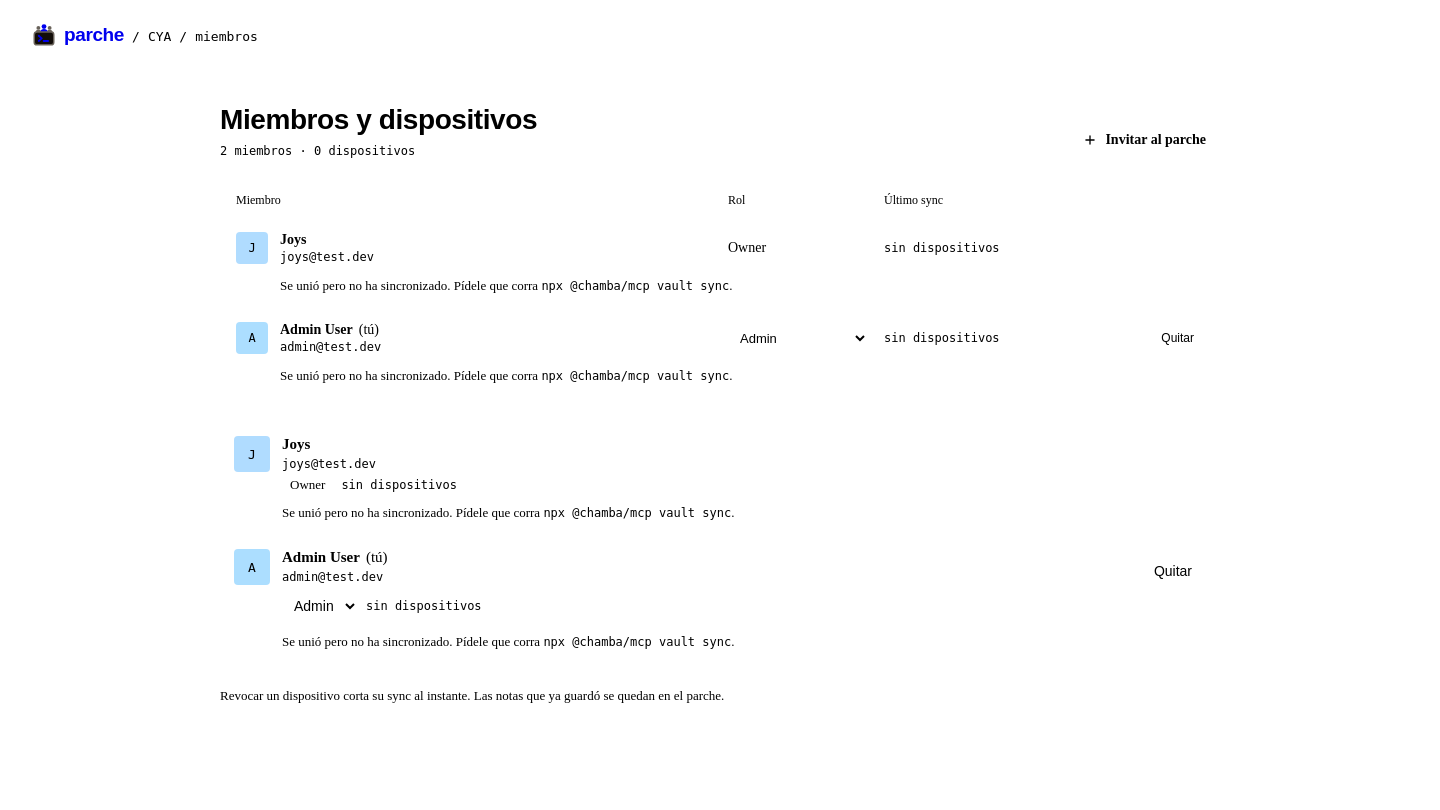
Test: MiembrosPage › admin self-remove: shows Quitar button on own row and dialog with self copy
The width and height of the screenshot is (1440, 810).
Expected: the heading "Miembros y dispositivos" is shown, [220,104,537,136]
Note: Click Quitar on admin's own row
Click the button with aria-label "quitar a admin user" at [1178, 338], box [1151,324,1204,352]
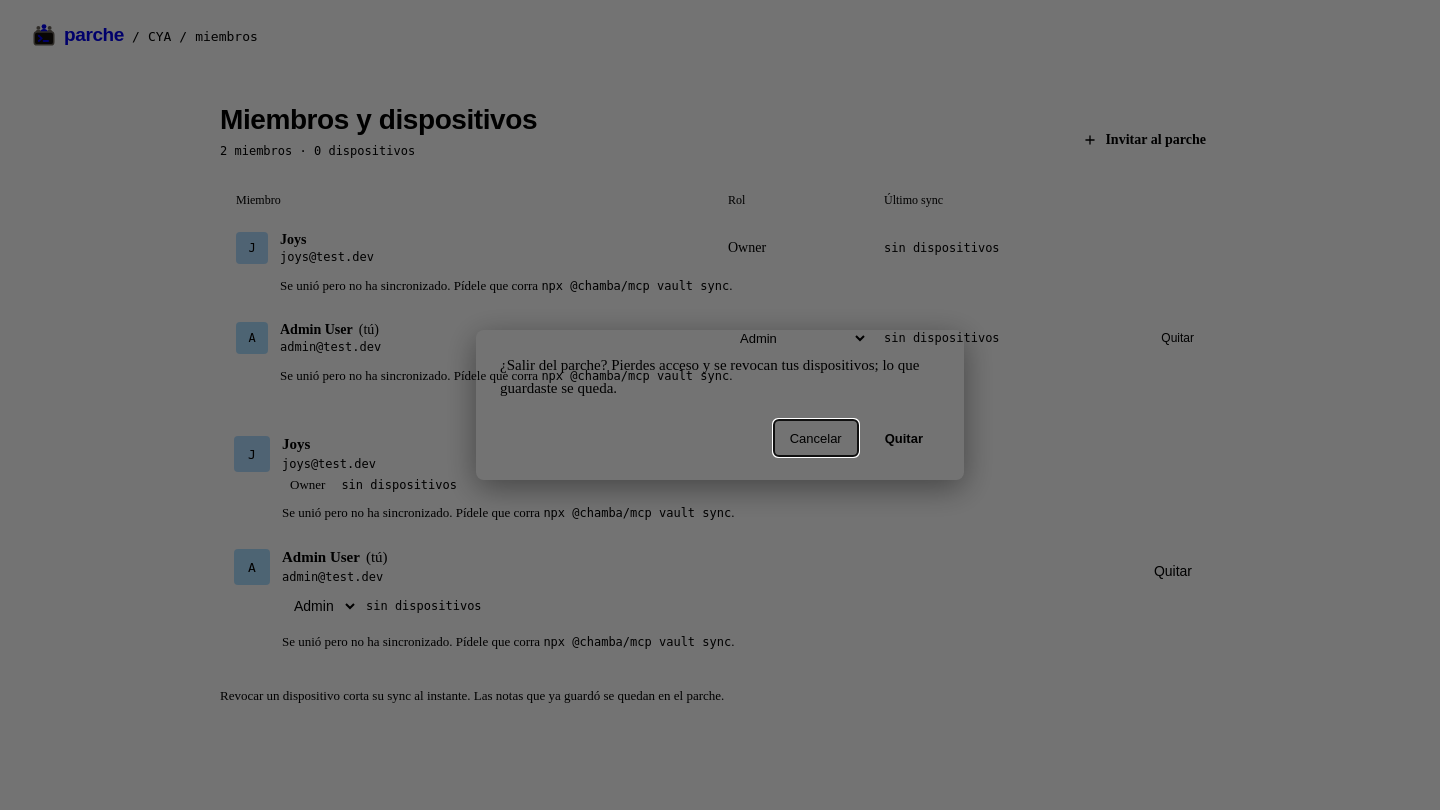
Expected: the dialog is shown, [476,330,964,480]
Expected: the text "Pierdes acceso" is shown, [500,357,920,396]
